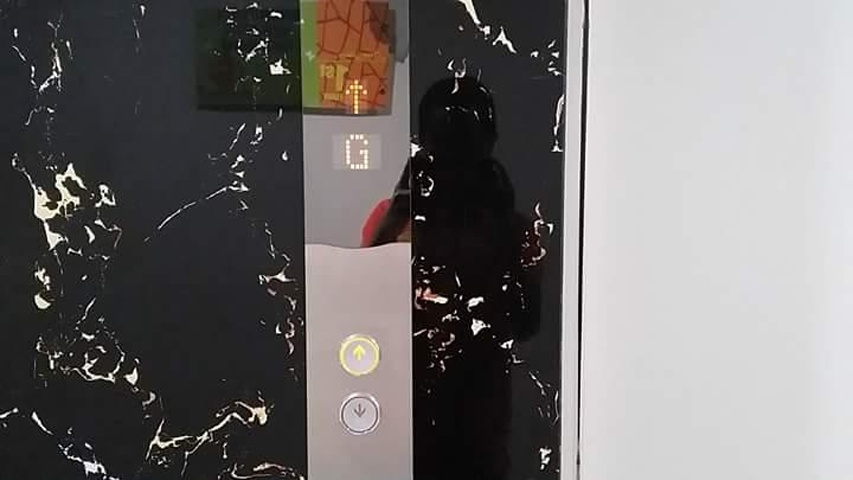down: (337, 390, 384, 437)
led: (327, 50, 384, 178)
up: (336, 331, 382, 377)
